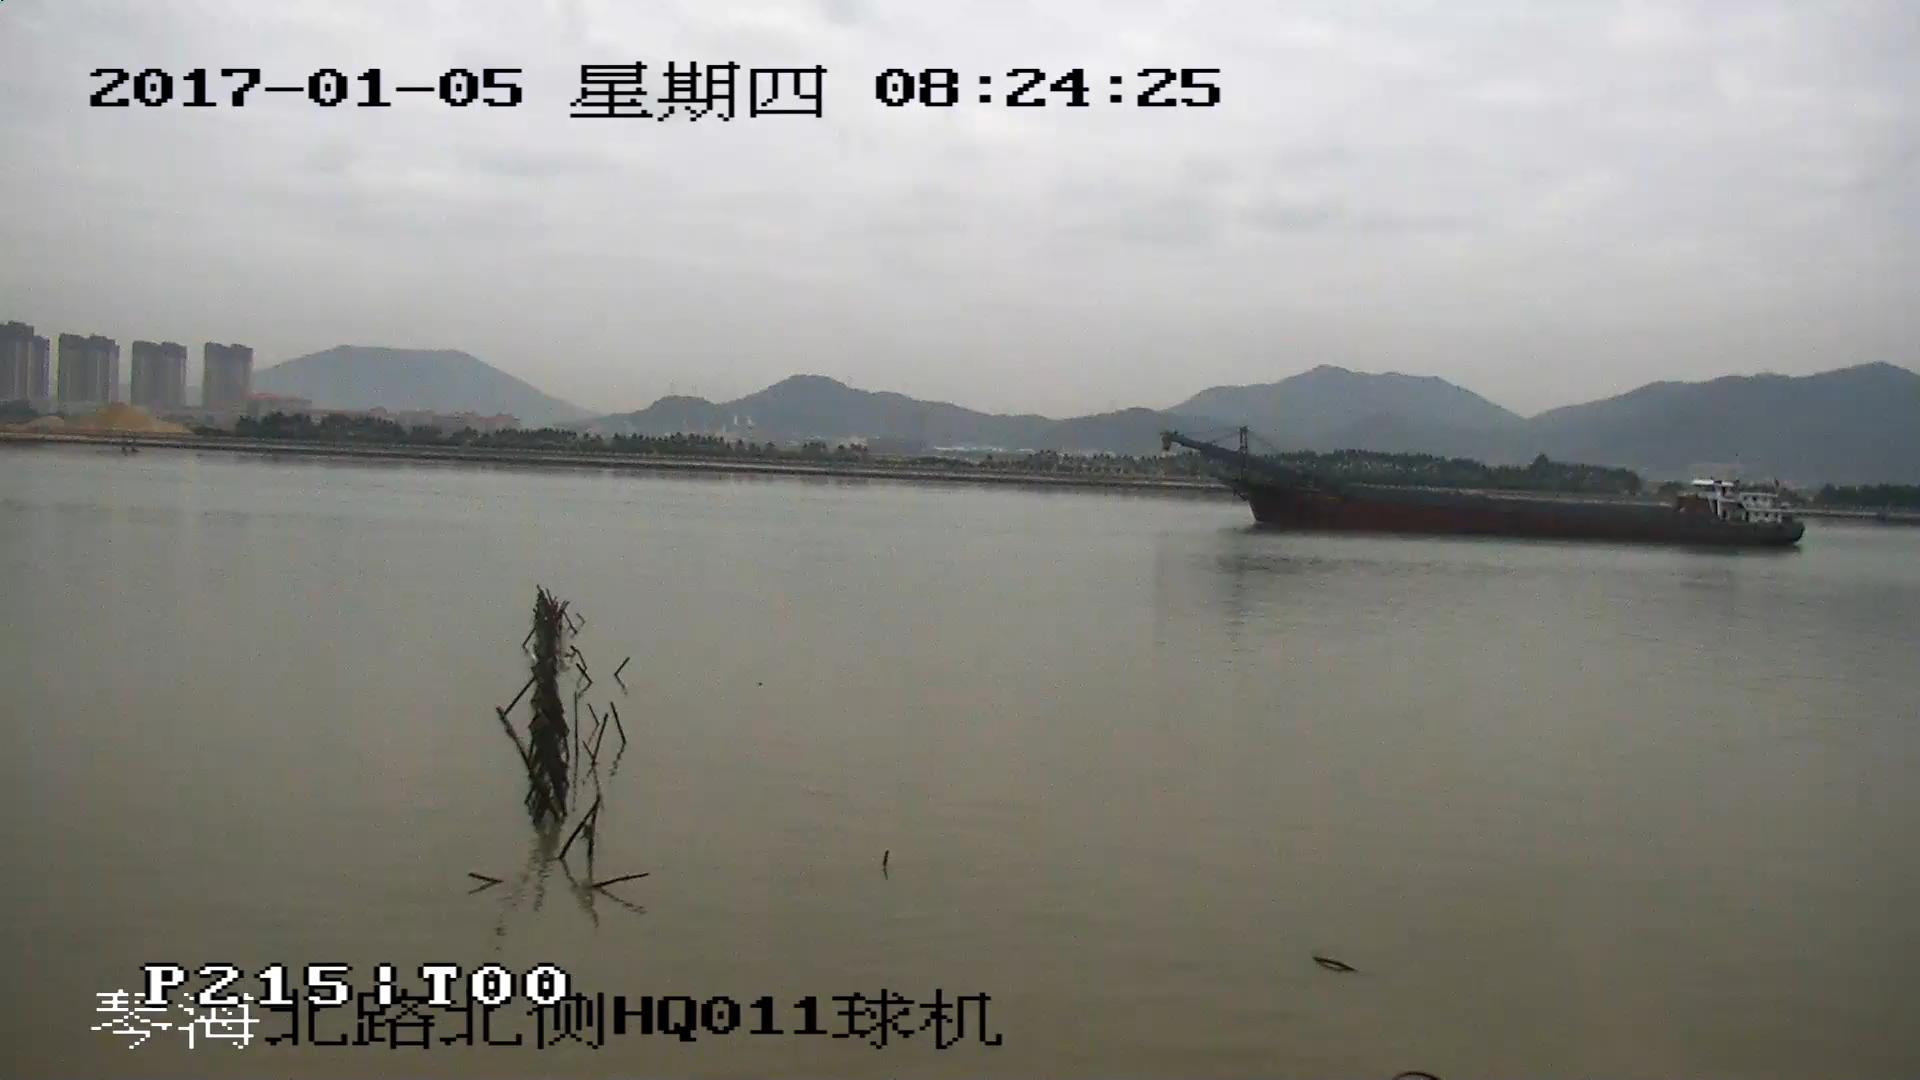bulk cargo carrier: (1165, 430, 1804, 551)
